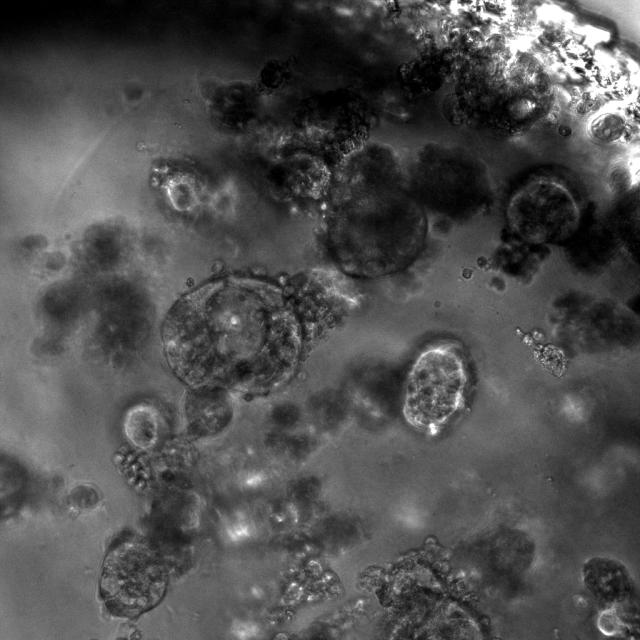organoid: (212, 67, 428, 277), (196, 363, 401, 554), (161, 261, 359, 435), (99, 395, 203, 618), (478, 165, 639, 290), (32, 219, 156, 366), (397, 34, 552, 134), (358, 537, 491, 639), (149, 158, 274, 255), (232, 559, 342, 639), (0, 448, 101, 523), (409, 143, 492, 232), (402, 336, 473, 437), (563, 557, 639, 639), (549, 291, 639, 354), (457, 524, 535, 596), (271, 600, 365, 639), (516, 328, 568, 377), (17, 234, 65, 272), (591, 113, 624, 142), (571, 88, 604, 115), (112, 621, 142, 639), (558, 123, 572, 137), (463, 269, 471, 278)
